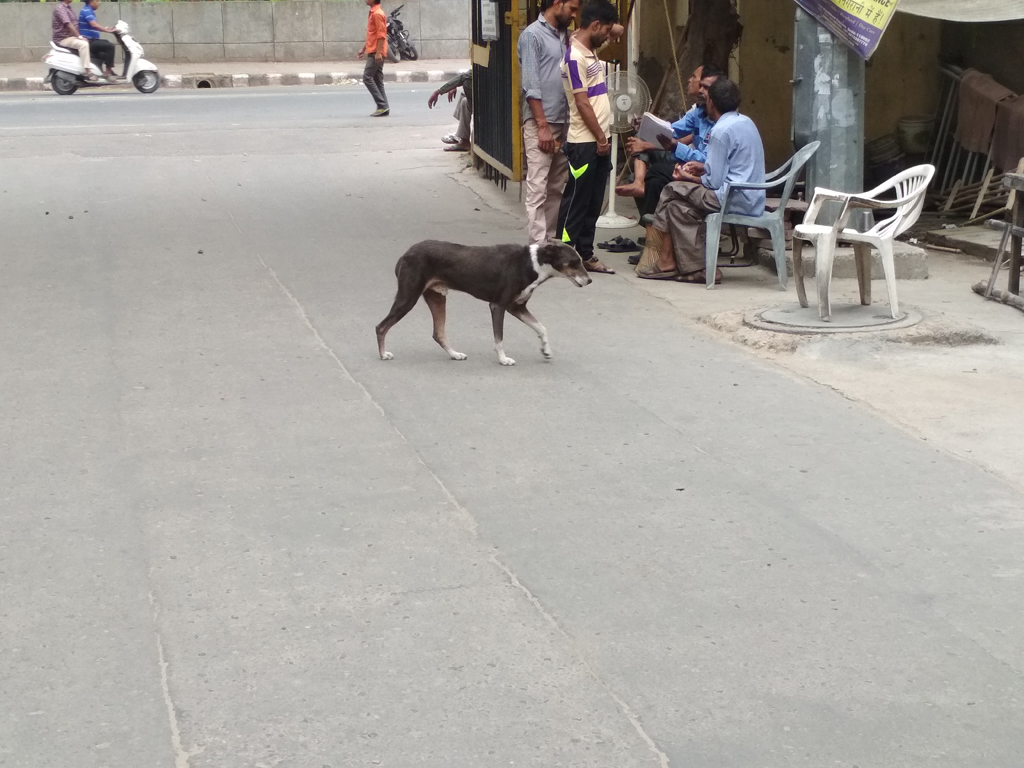dog: (376, 240, 592, 365)
